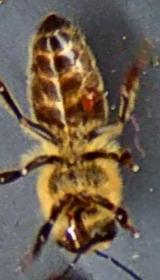varroa_mite: (78, 83, 106, 116)
